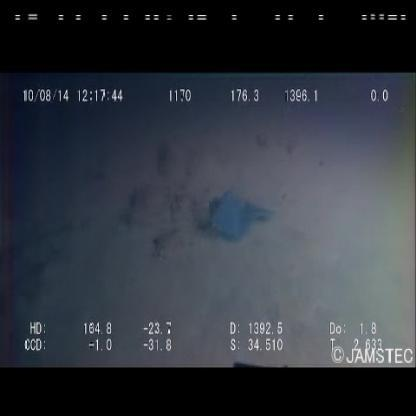Rác: (198, 183, 276, 242)
